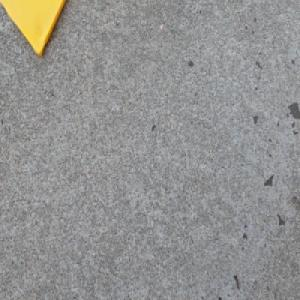PlasticPart: (0, 0, 67, 58)
